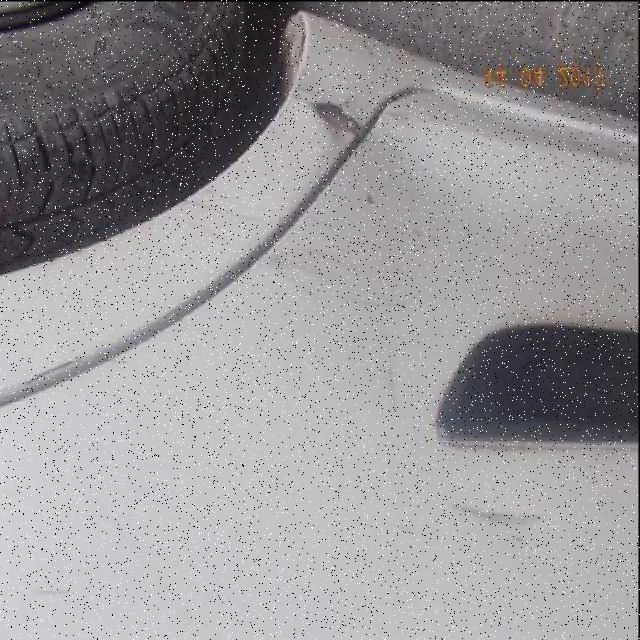damage: (263, 239, 415, 306), (443, 492, 555, 537), (311, 96, 367, 137), (381, 351, 408, 412), (30, 579, 77, 604)
